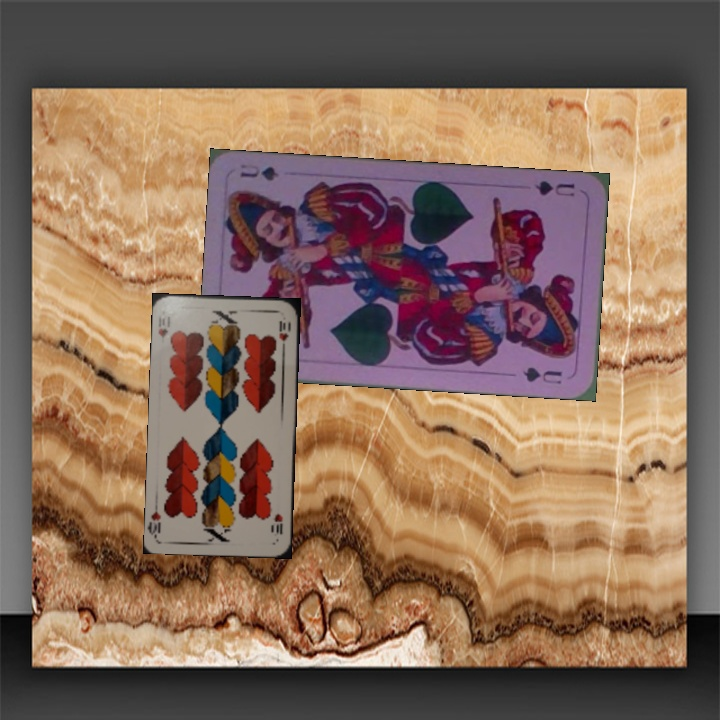GU: (530, 176, 577, 199)
H10: (268, 510, 285, 538), (154, 312, 170, 340)
